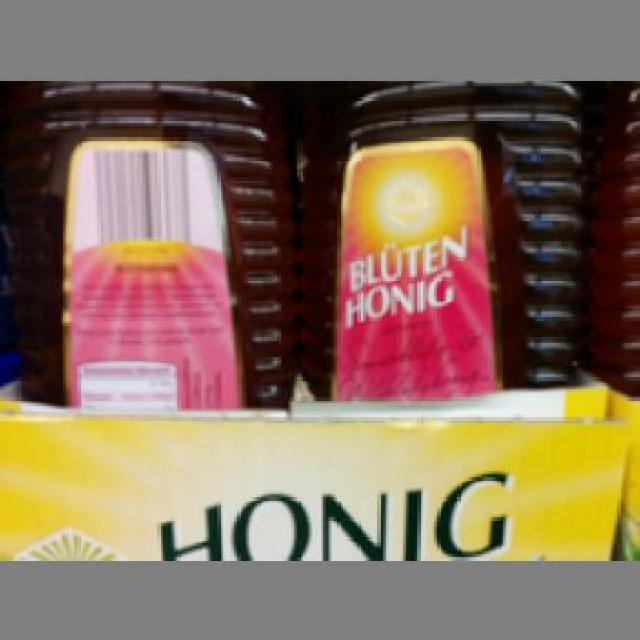Honey: (6, 77, 294, 400), (306, 79, 583, 395)
